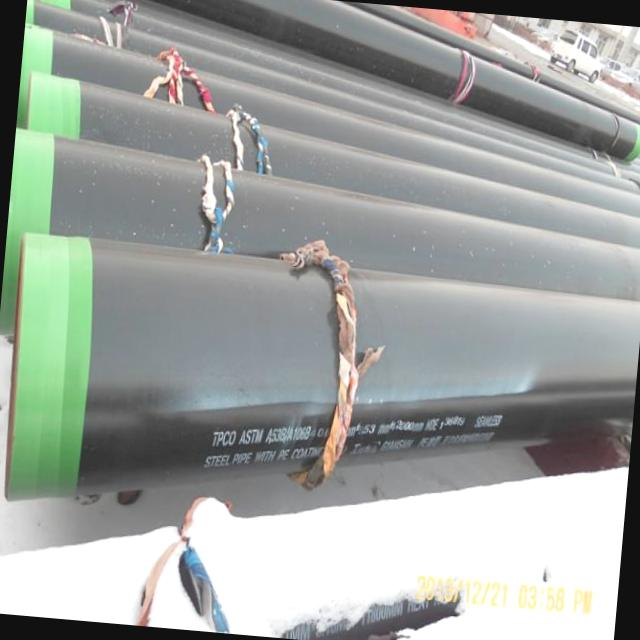gas: (0, 129, 640, 498), (148, 0, 640, 159), (201, 72, 640, 216), (263, 127, 640, 246), (133, 1, 378, 104), (79, 83, 230, 158), (51, 42, 158, 92)
